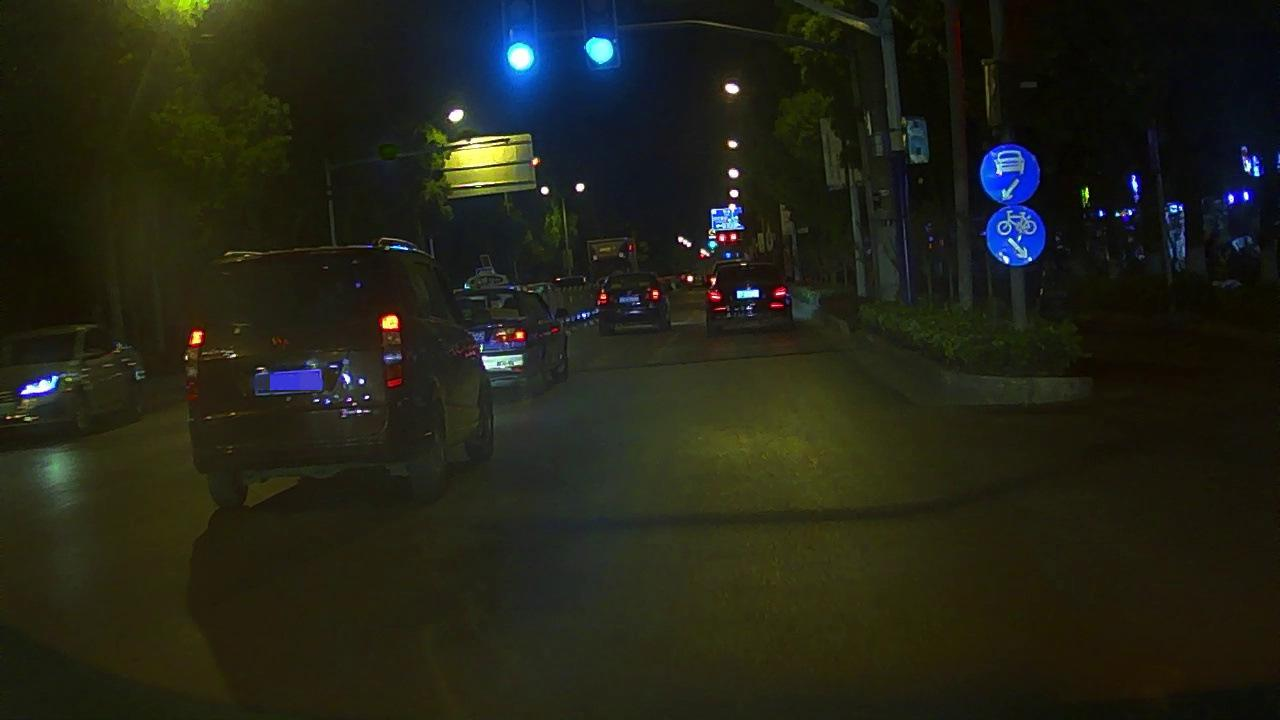traffic_light: (578, 26, 621, 71), (499, 36, 544, 76)
